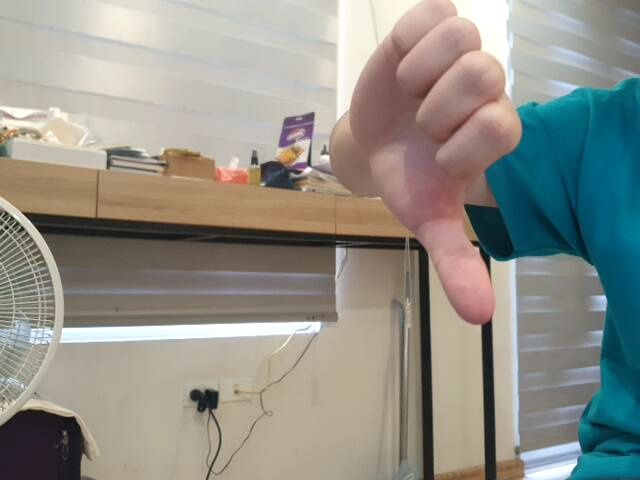ThumbsDown: (325, 1, 527, 328)
